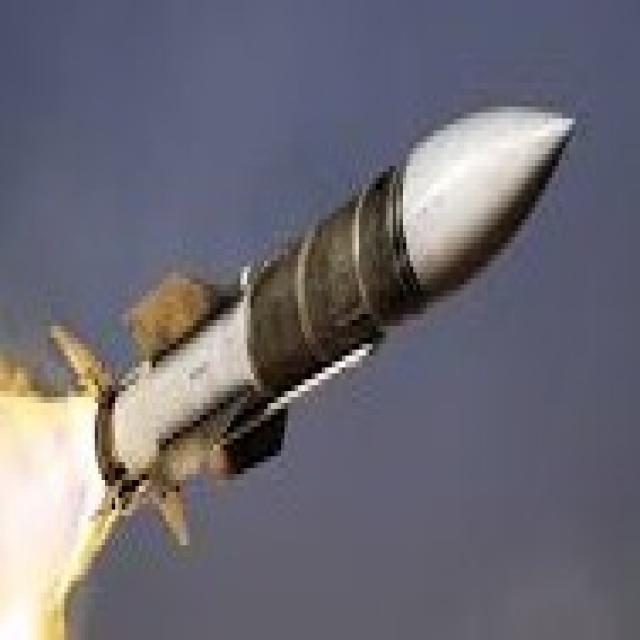missile: (47, 94, 592, 550)
